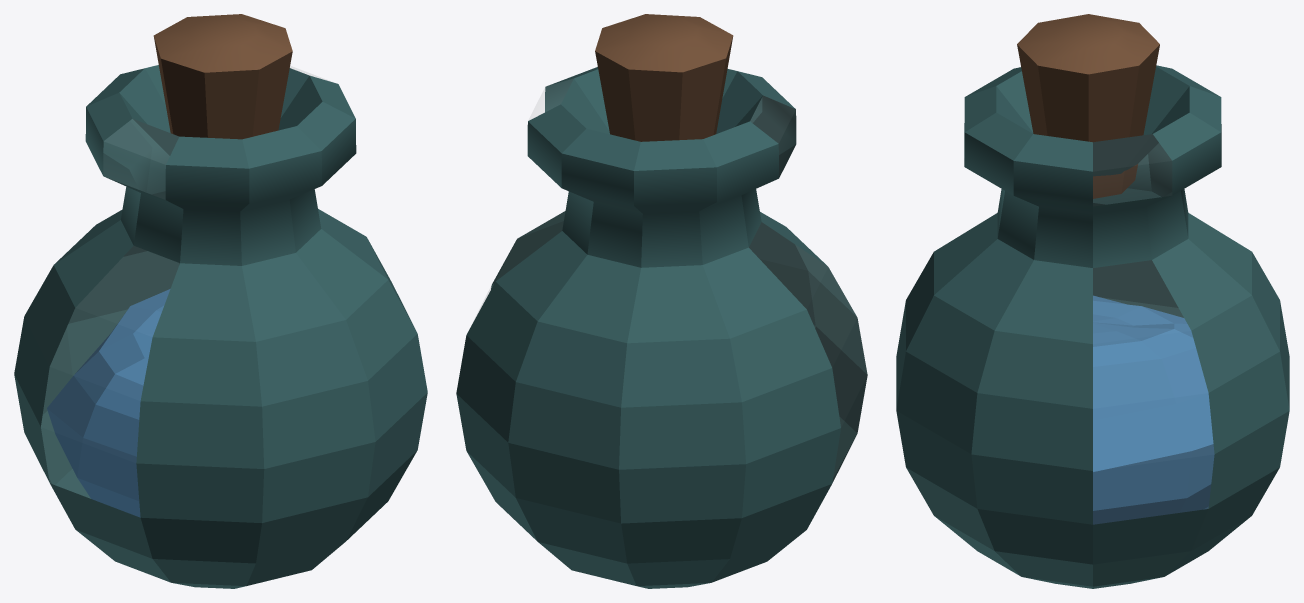
The model's file is RevivalPotion.fbx.
3 renders of one model, left to right at view 1: azimuth 30°, elevation 25°; view 2: azimuth 150°, elevation 25°; view 3: azimuth 270°, elevation 25°, orthographic.
Parts seen in each view (by area): view 1: polySurface13854; view 2: polySurface13854; view 3: polySurface13854.
Part boxes in pixels (x1,y1,x2,y2): polySurface13854: (14,14,427,588); polySurface13854: (456,14,867,588); polySurface13854: (896,14,1289,588).
Bounding box in the file's own units: 0.1265 × 0.1817 × 0.1203.
